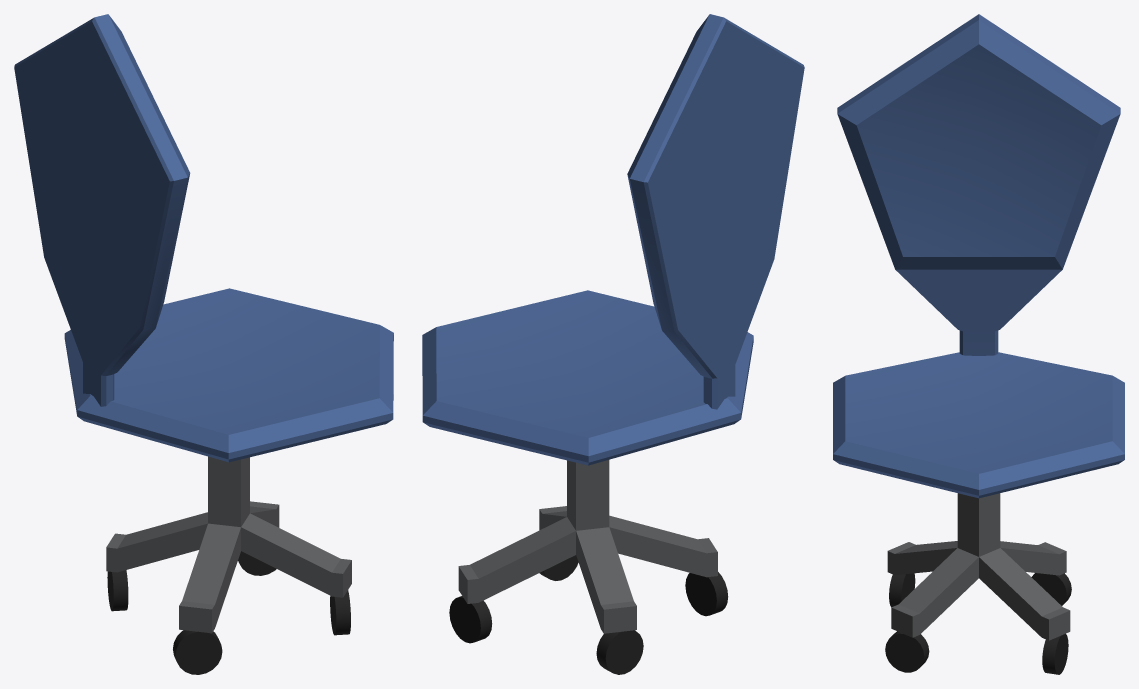
Rendered from Obj_LabChair.fbx.
3 views of the same model, side by side, from view 1: azimuth 30°, elevation 25°; view 2: azimuth 150°, elevation 25°; view 3: azimuth 270°, elevation 25° (orthographic). The views are drawn at different scales.
Parts seen in each view (by area): view 1: Obj_LabChair; view 2: Obj_LabChair; view 3: Obj_LabChair.
Part boxes in pixels (box(x1,y1,x2,y2)): Obj_LabChair: box(14, 14, 393, 674); Obj_LabChair: box(422, 14, 804, 674); Obj_LabChair: box(833, 14, 1124, 674).
Size of the model in its own units: 1.06 by 2.04 by 0.95.
